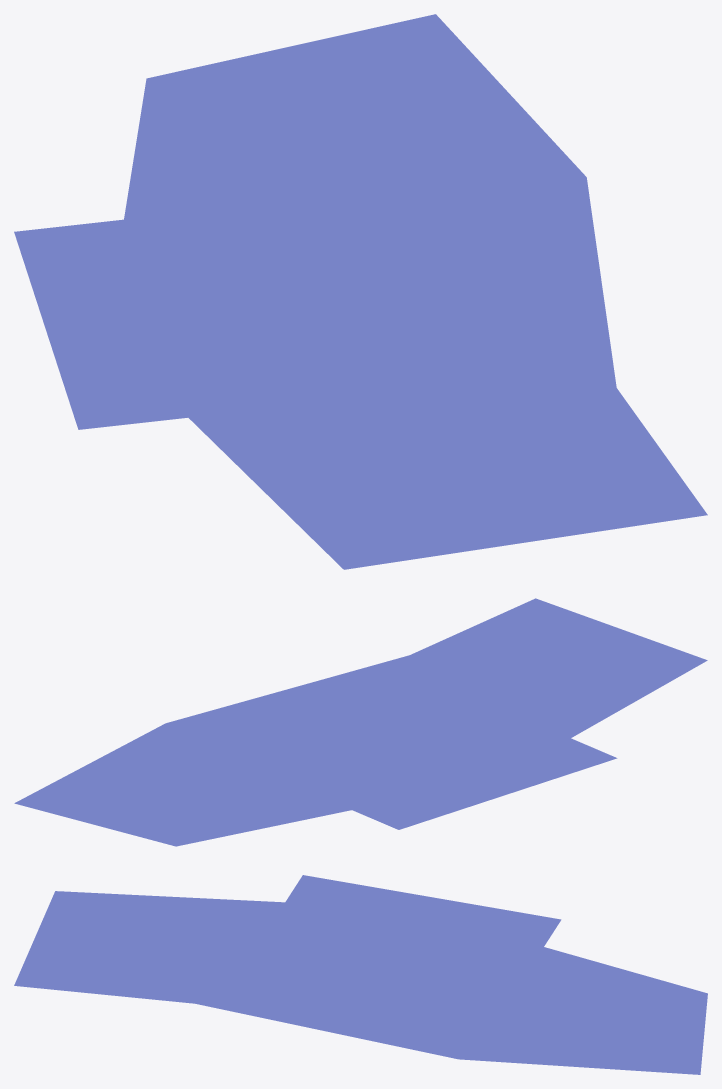
File: terrain_W4A4_water.fbx
The picture shows the model from 3 angles, top to bottom: view 1: azimuth 30°, elevation 25°; view 2: azimuth 150°, elevation 25°; view 3: azimuth 270°, elevation 25°; orthographic projection. The views are drawn at different scales.
Parts seen in each view (by area): view 1: W4A4water; view 2: W4A4water; view 3: W4A4water.
Boxes of the visible parts, x1,y1,x2,y2 form: W4A4water: (14,14,707,569); W4A4water: (14,598,707,846); W4A4water: (14,875,707,1074).
Bounding box in the file's own units: 19175 × 0 × 28120.
